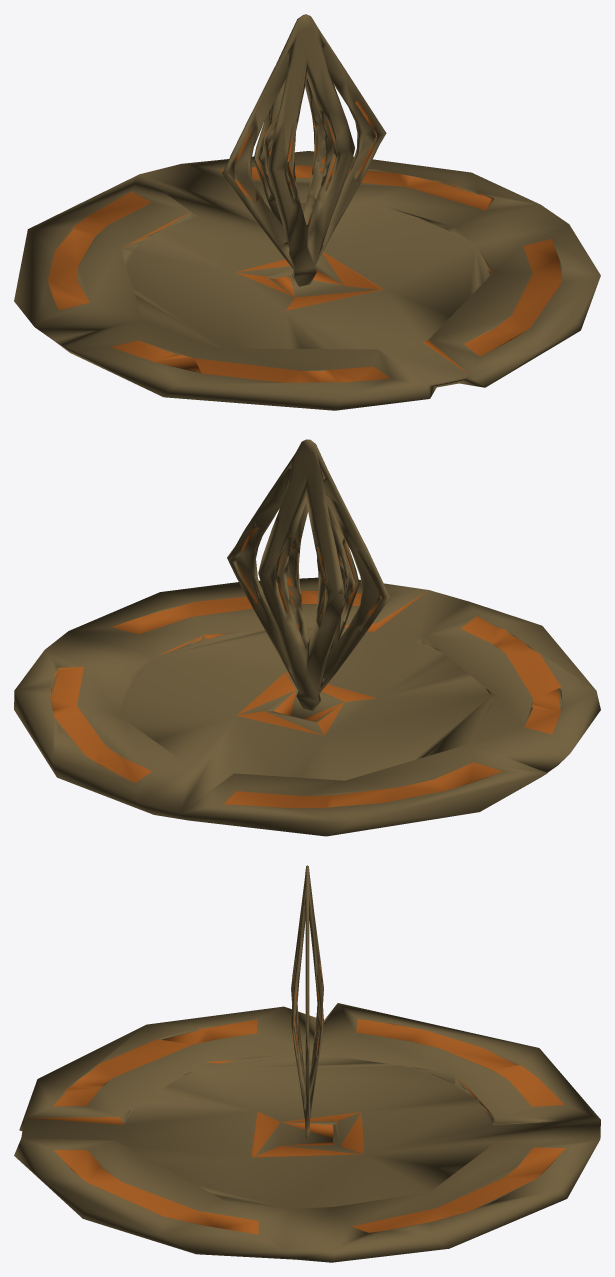
File: objective-marker-kit.glb
3 views of the same model, one above another, from view 1: azimuth 30°, elevation 25°; view 2: azimuth 150°, elevation 25°; view 3: azimuth 270°, elevation 25° (orthographic).
Parts seen in each view (by area): view 1: QuestMarker_GroundSeal, QuestMarker_Hero; view 2: QuestMarker_GroundSeal, QuestMarker_Hero; view 3: QuestMarker_GroundSeal, QuestMarker_Hero.
Part boxes in pixels (box(x1,y1,x2,y2)): QuestMarker_GroundSeal: box(14, 151, 600, 410); QuestMarker_Hero: box(222, 14, 386, 286); QuestMarker_GroundSeal: box(14, 577, 600, 836); QuestMarker_Hero: box(227, 439, 390, 710); QuestMarker_GroundSeal: box(14, 1003, 600, 1262); QuestMarker_Hero: box(291, 865, 323, 1138).
Size of the model in its own units: 0.62 by 0.32 by 0.62.
